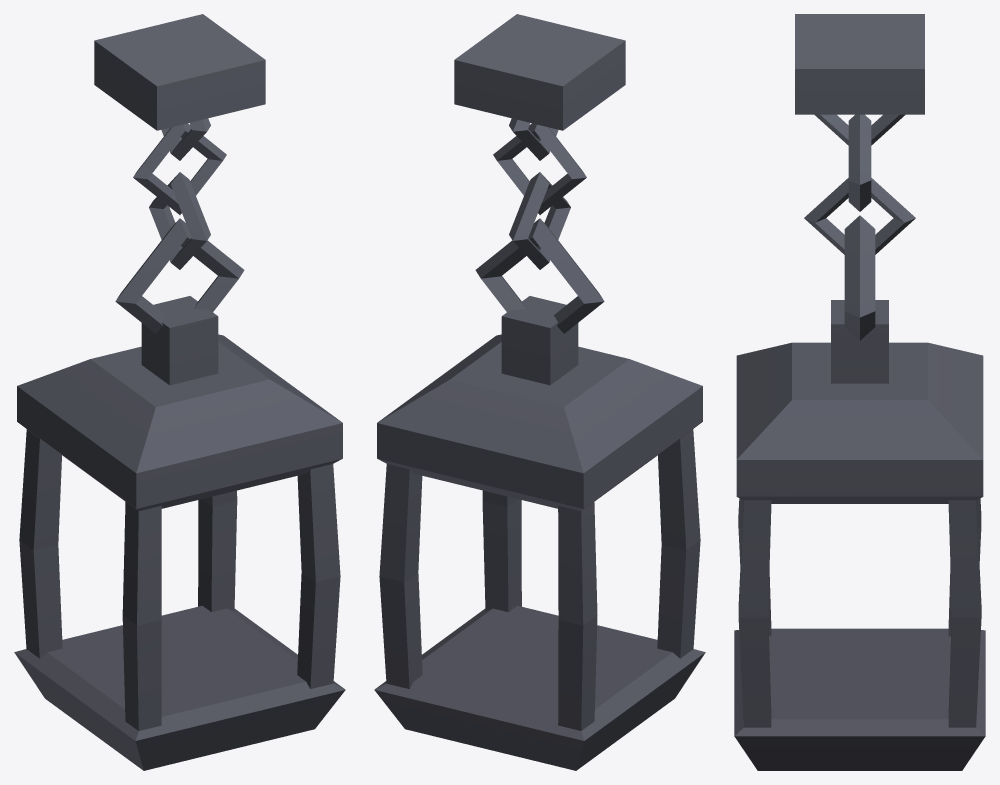
File: Lantern_02.fbx
The picture shows the model from 3 angles, left to right: view 1: azimuth 30°, elevation 25°; view 2: azimuth 150°, elevation 25°; view 3: azimuth 270°, elevation 25°; orthographic projection. The views are drawn at different scales.
Parts seen in each view (by area): view 1: Lantern_02; view 2: Lantern_02; view 3: Lantern_02.
Boxes of the visible parts, x1,y1,x2,y2 form: Lantern_02: (14,14,345,770); Lantern_02: (374,14,705,770); Lantern_02: (734,14,985,770).
Size of the model in its own units: 0.2807 by 0.8468 by 0.2807.
